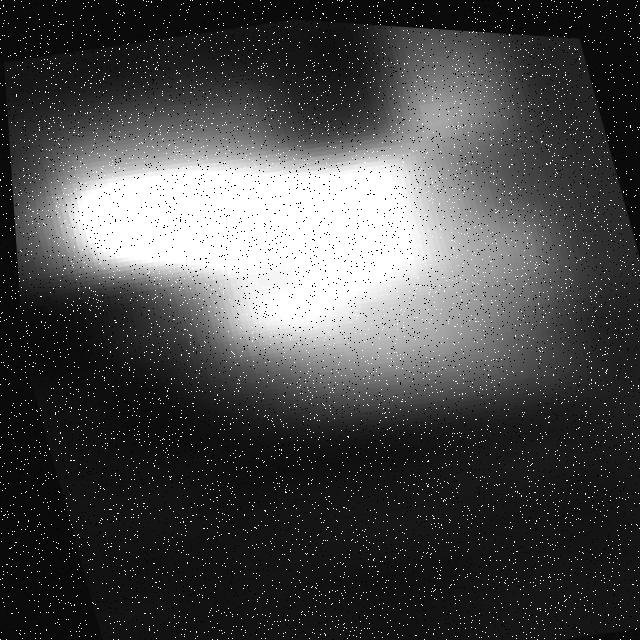person: (1, 1, 631, 521)
